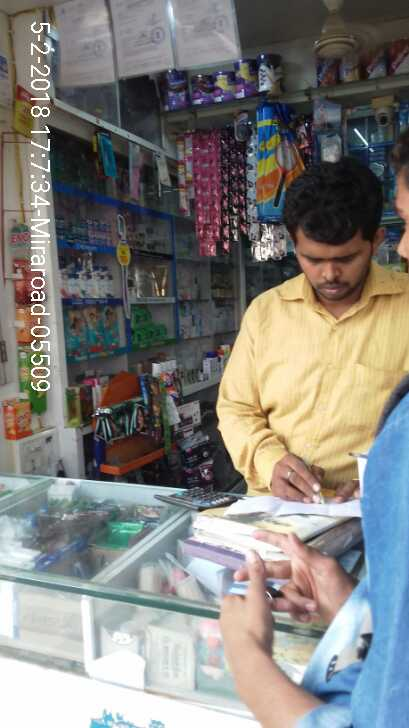beauty: (53, 259, 122, 298), (132, 264, 171, 298)
pharmacy: (49, 211, 113, 243), (132, 306, 169, 344), (104, 304, 125, 357), (62, 307, 83, 356), (82, 306, 102, 352)
